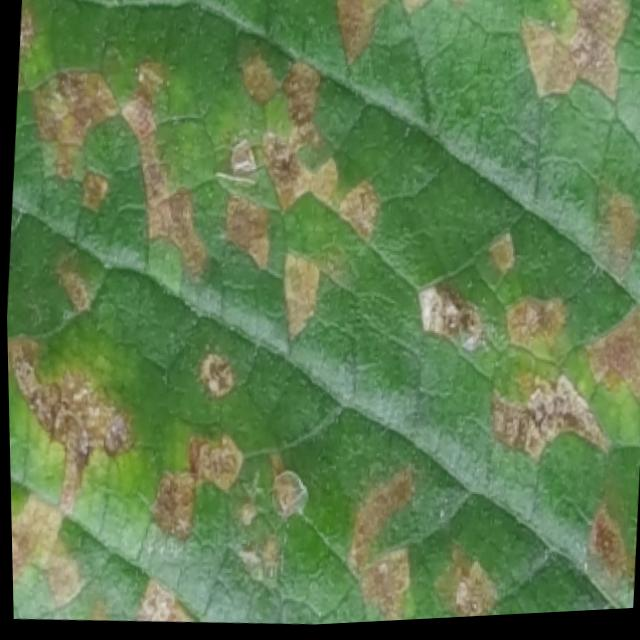Angular Leafspot: (5, 0, 640, 627)
